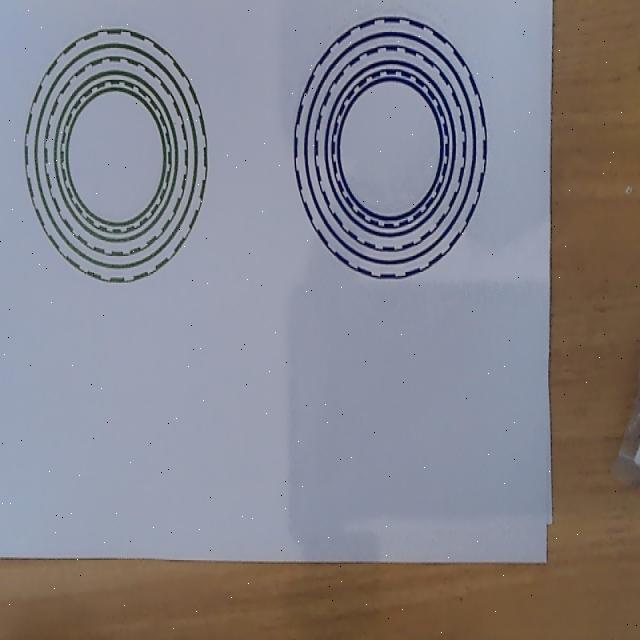b: (294, 15, 487, 280)
g: (25, 28, 208, 283)
